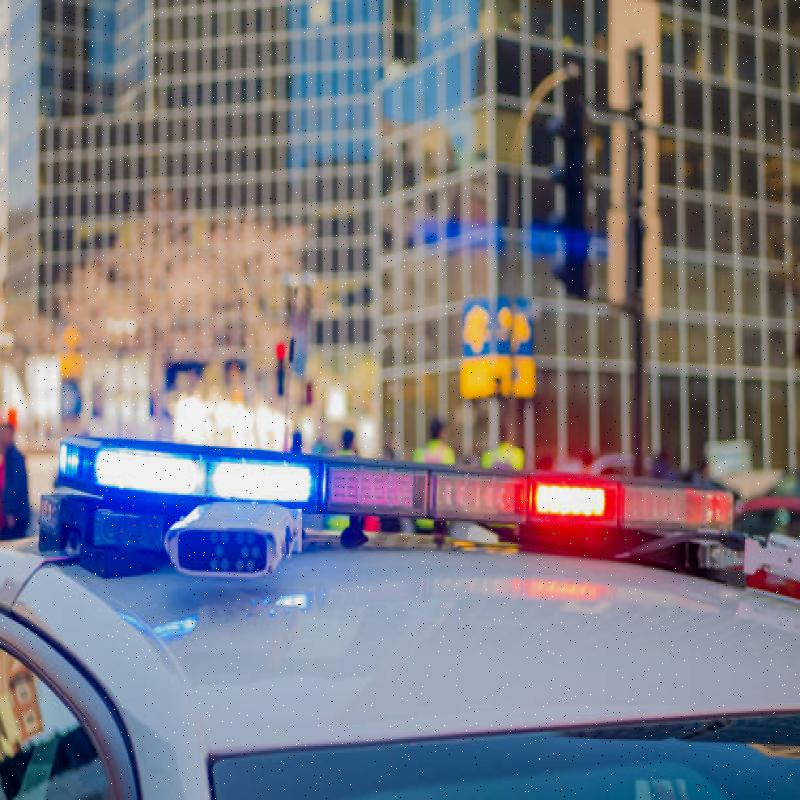AmbulanceSiren: (51, 407, 752, 569)
